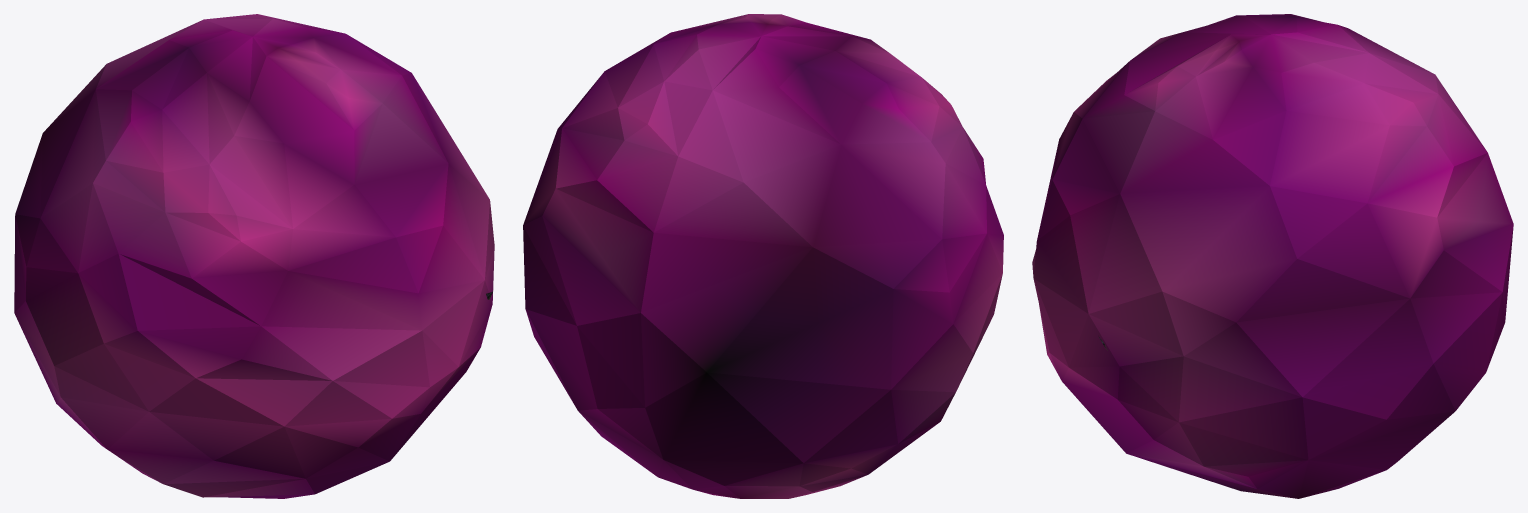
3 views of the same model, side by side, from view 1: azimuth 30°, elevation 25°; view 2: azimuth 150°, elevation 25°; view 3: azimuth 270°, elevation 25° (orthographic).
Parts seen in each view (by area): view 1: part3; view 2: part3; view 3: part3.
Boxes of the visible parts, bbox=[...] form: part3: bbox=[14, 14, 494, 498]; part3: bbox=[523, 14, 1003, 498]; part3: bbox=[1032, 14, 1513, 498].
Bounding box in the file's own units: 12.82 × 13.03 × 12.81.
30 materials, 28 textured.
